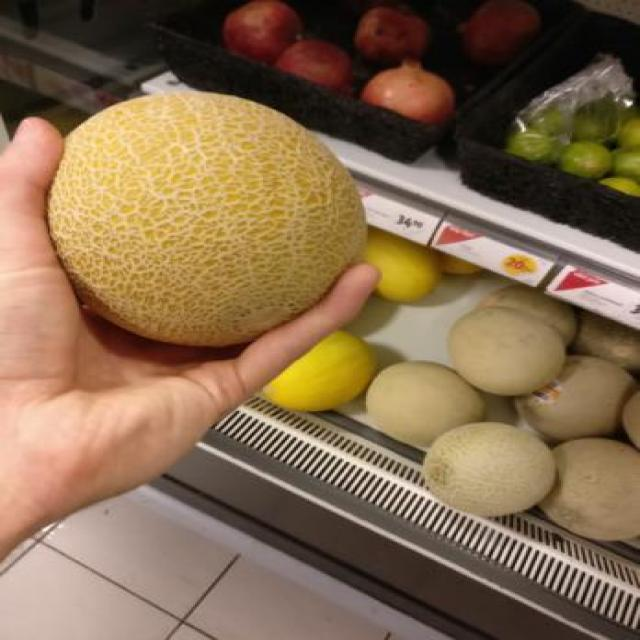Galia: (48, 91, 368, 348), (425, 422, 550, 515), (366, 362, 484, 438), (552, 440, 638, 543), (454, 312, 565, 389), (518, 358, 630, 434)
